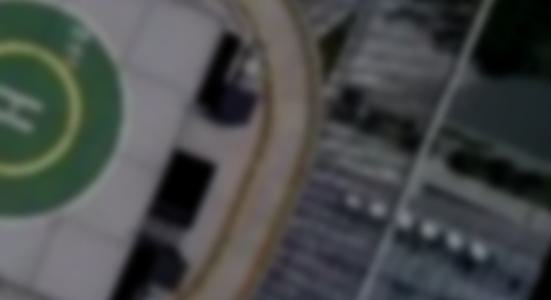Apron: (1, 37, 90, 181)
